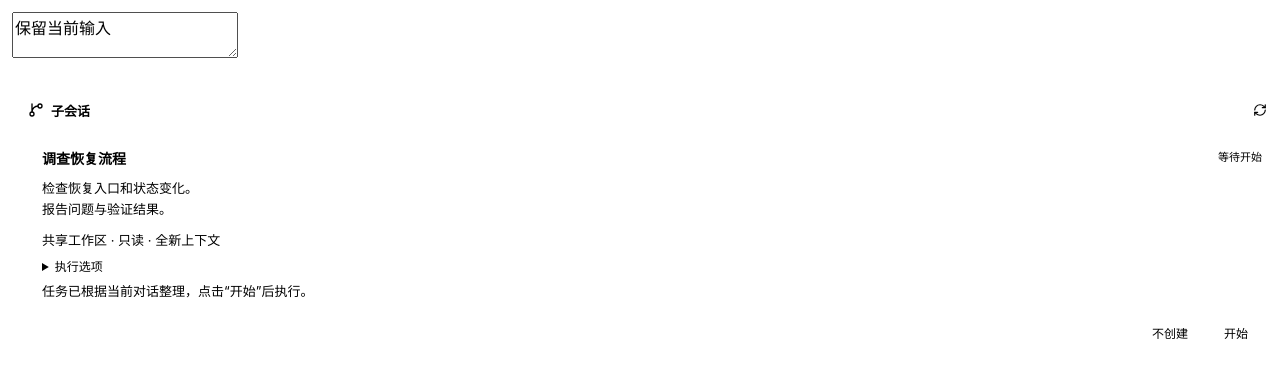
Test: restores a pending proposal after remount without submitting anything until clicked
Check: the heading "调查恢复流程" is shown, box x1=42 y1=148 x2=126 y2=168
Click the button "开始" at (1236, 332), box x1=1210 y1=314 x2=1262 y2=350
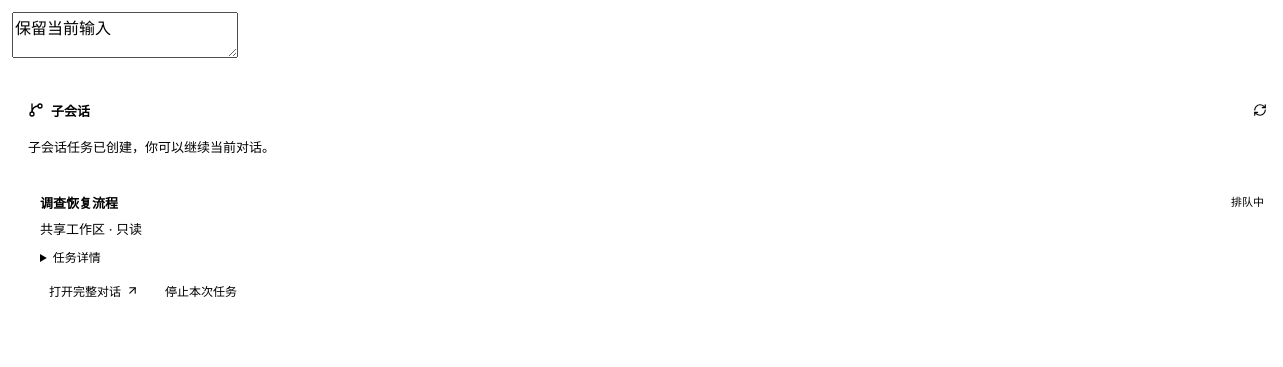
Check: the text "子会话任务已创建，你可以继续当前对话。" is shown, box x1=28 y1=139 x2=275 y2=155
